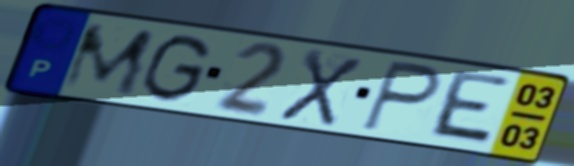2: (211, 40, 290, 119)
E: (423, 68, 515, 149)
G: (137, 33, 214, 106)
M: (56, 22, 160, 99)
P: (357, 58, 446, 136)
X: (274, 46, 367, 130)
